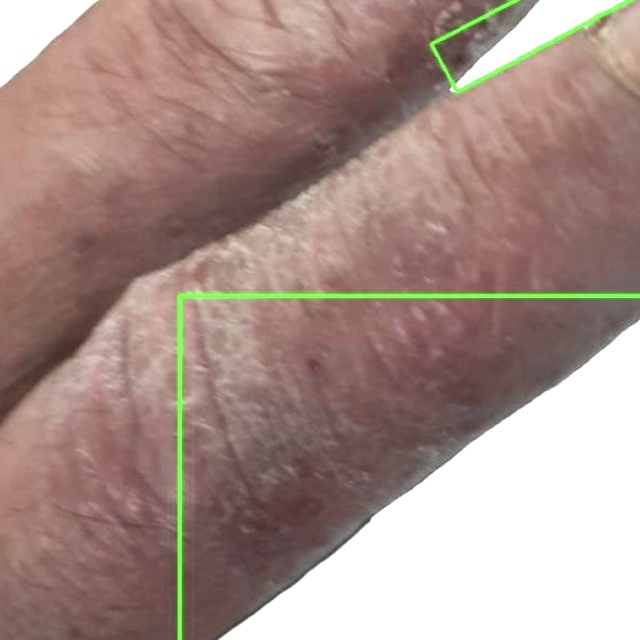Contact Dermatitis: (179, 295, 639, 639), (432, 0, 630, 93)
